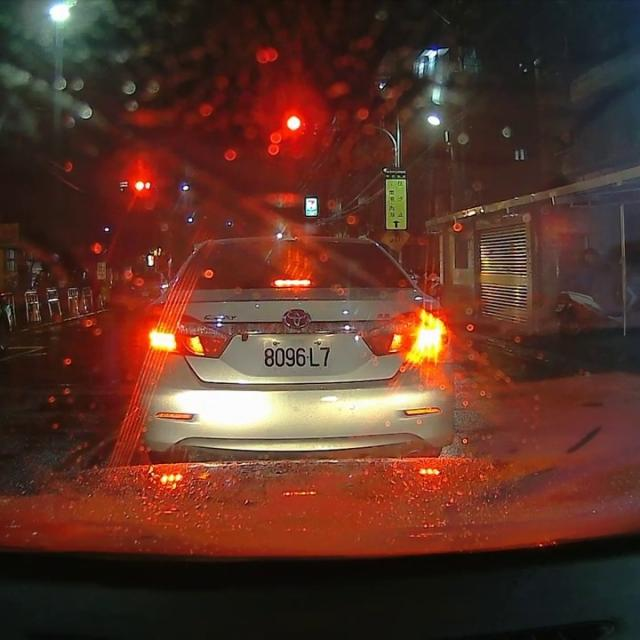Car: (139, 232, 456, 459)
